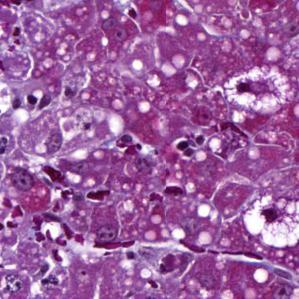ballooning: (221, 63, 294, 118), (239, 193, 297, 250)
